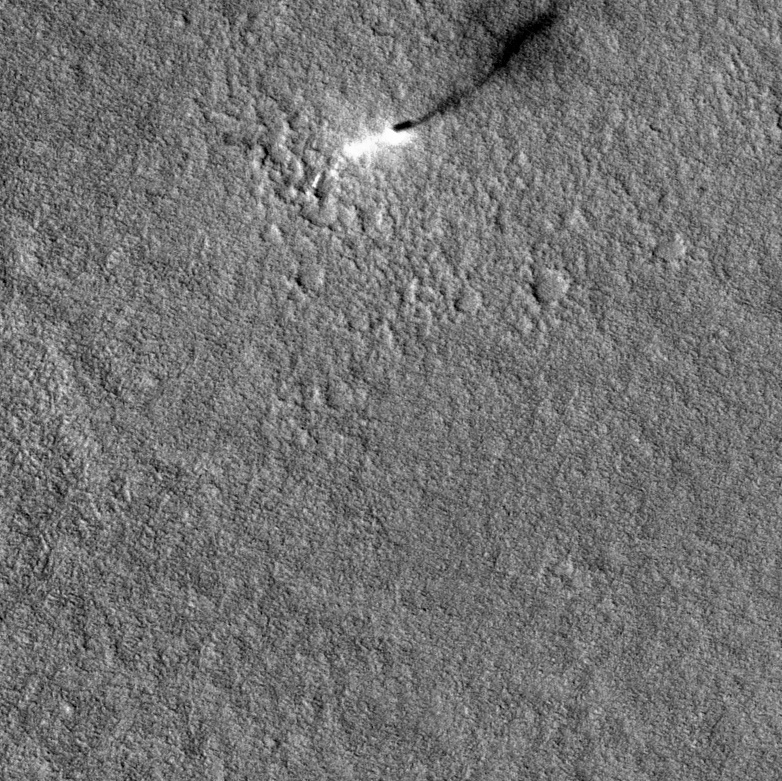dust_devil: (336, 4, 565, 166)
